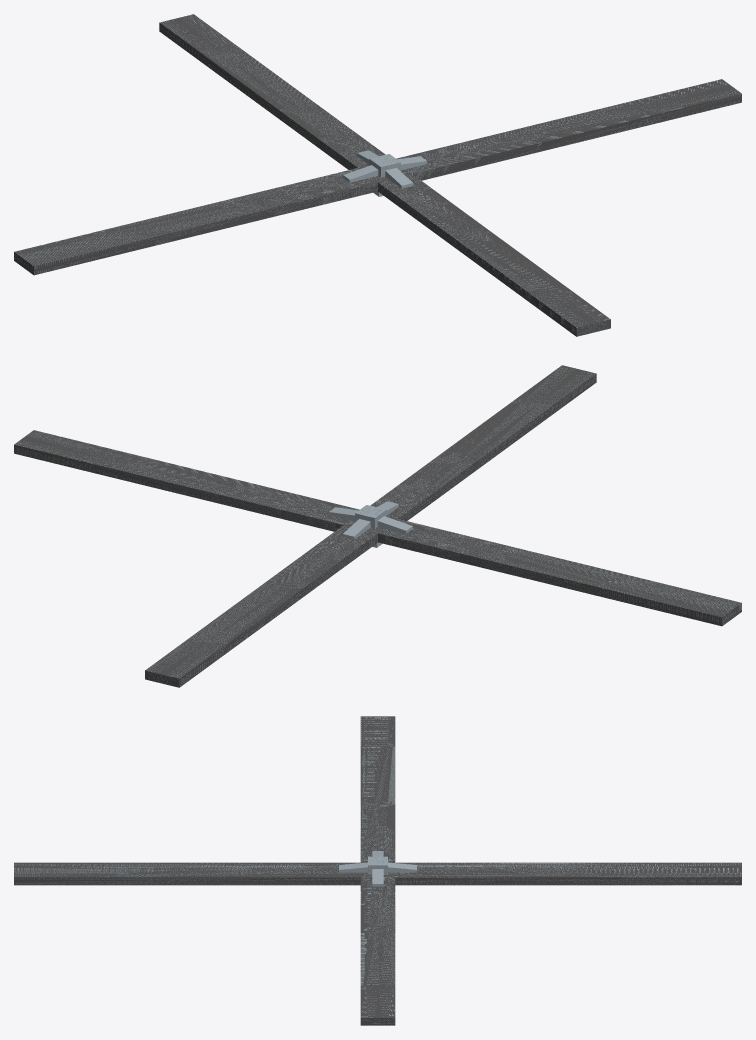
The model's file is heliblades.obj.
3 views of the same model, one above another, from view 1: azimuth 30°, elevation 25°; view 2: azimuth 150°, elevation 25°; view 3: azimuth 270°, elevation 25° (orthographic). The views are drawn at different scales.
Visible parts, largest first — view 1: Mesh1 Group1 Model; view 2: Mesh1 Group1 Model; view 3: Mesh1 Group1 Model.
Boxes of the visible parts, left/top/right/bottom form: Mesh1 Group1 Model: left=14, top=14, right=741, bottom=336; Mesh1 Group1 Model: left=14, top=365, right=741, bottom=687; Mesh1 Group1 Model: left=14, top=716, right=741, bottom=1025.
Bounding box in the file's own units: 49.4 × 1.8 × 50.4.
